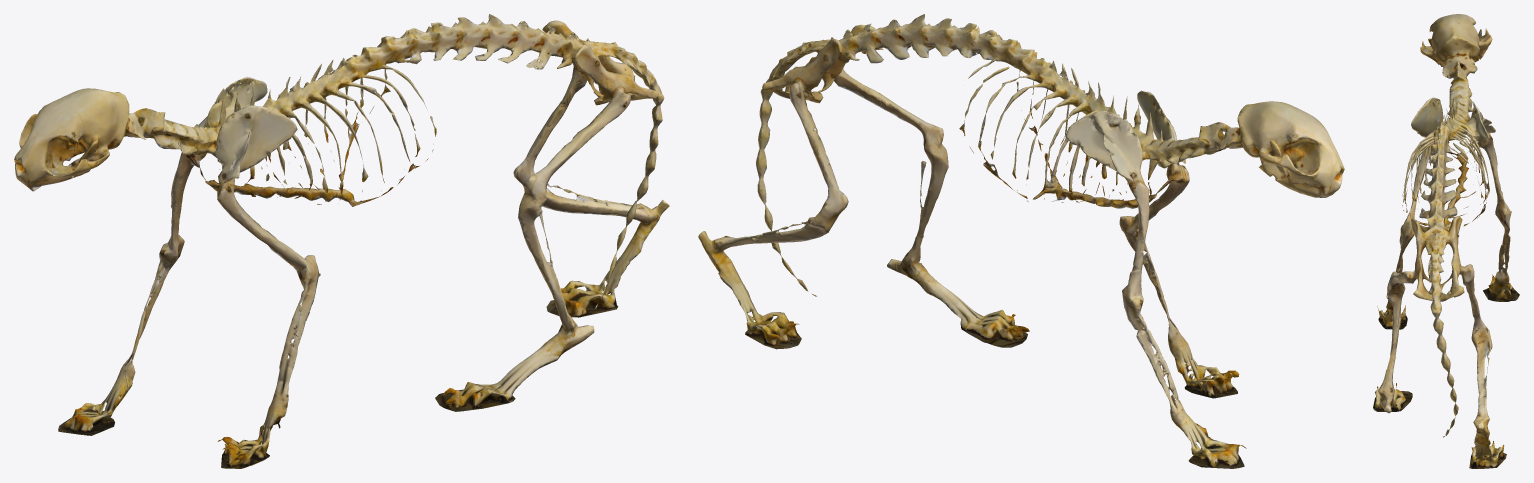
The model's file is cat-skeleton.glb.
3 renders of one model, left to right at view 1: azimuth 30°, elevation 25°; view 2: azimuth 150°, elevation 25°; view 3: azimuth 270°, elevation 25°, orthographic. The views are drawn at different scales.
Parts seen in each view (by area): view 1: chat; view 2: chat; view 3: chat.
Boxes of the visible parts, bbox=[...] form: chat: bbox=[14, 14, 669, 468]; chat: bbox=[698, 14, 1344, 468]; chat: bbox=[1373, 14, 1519, 468].
Bounding box in the file's own units: 11.9 × 6.2 × 3.11.
Materials: 1 (1 with a texture image).
